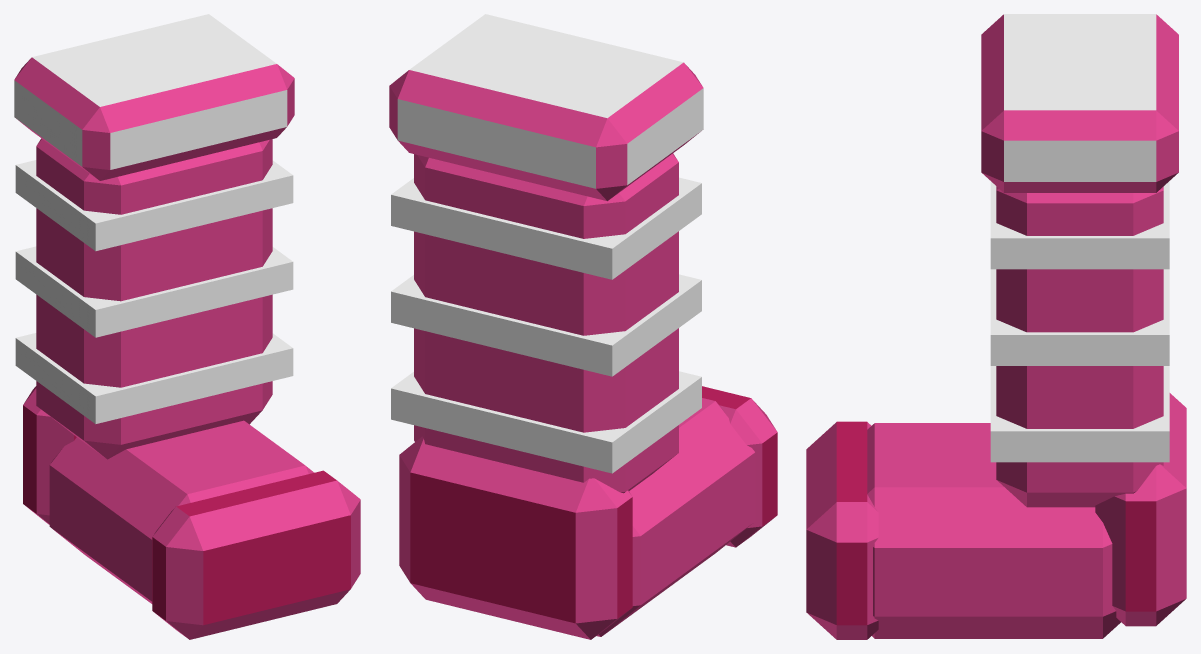
The model's file is sock.glb.
3 views of the same model, side by side, from view 1: azimuth 30°, elevation 25°; view 2: azimuth 150°, elevation 25°; view 3: azimuth 270°, elevation 25° (orthographic). The views are drawn at different scales.
Visible parts, largest first — view 1: socke; view 2: socke; view 3: socke.
Part boxes in pixels (box(x1,y1,x2,y2)): socke: box(14, 14, 360, 639); socke: box(389, 14, 777, 639); socke: box(806, 14, 1186, 639).
Size of the model in its own units: 0.36 by 0.79 by 0.5.
